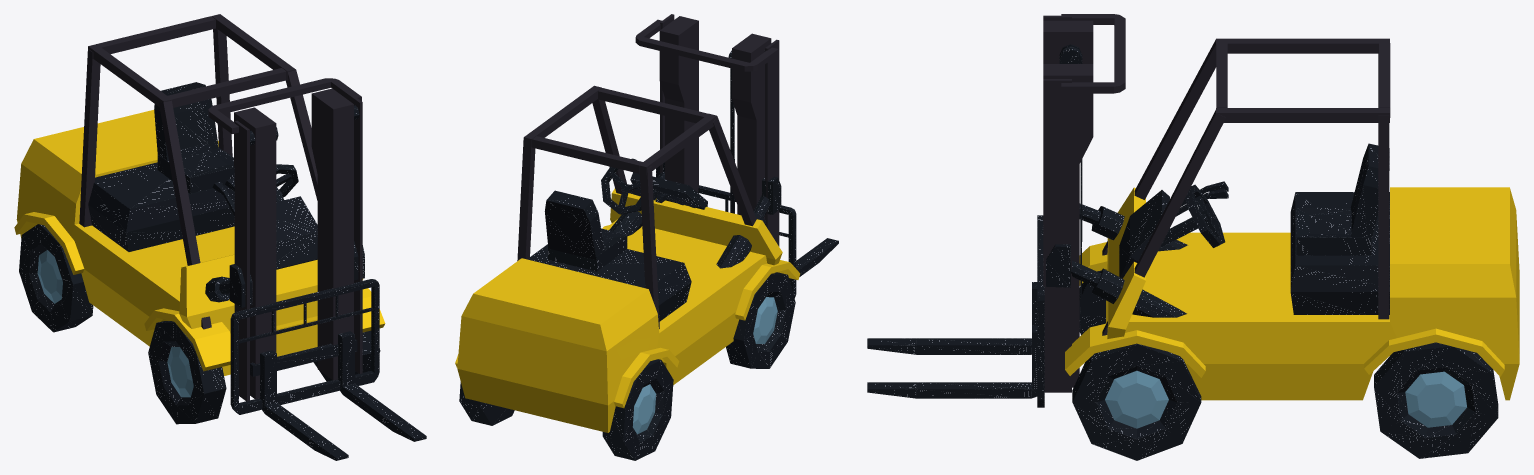
Rendered from Prop_Forklift.fbx.
3 views of the same model, side by side, from view 1: azimuth 30°, elevation 25°; view 2: azimuth 150°, elevation 25°; view 3: azimuth 270°, elevation 25° (orthographic). The views are drawn at different scales.
Visible parts, largest first — view 1: Prop_Forklift; view 2: Prop_Forklift; view 3: Prop_Forklift.
Boxes of the visible parts, x1=… form: Prop_Forklift: x1=14, y1=14, x2=426, y2=460; Prop_Forklift: x1=455, y1=14, x2=838, y2=460; Prop_Forklift: x1=867, y1=14, x2=1519, y2=460.
Bounding box in the file's own units: 451 × 165 × 277.
